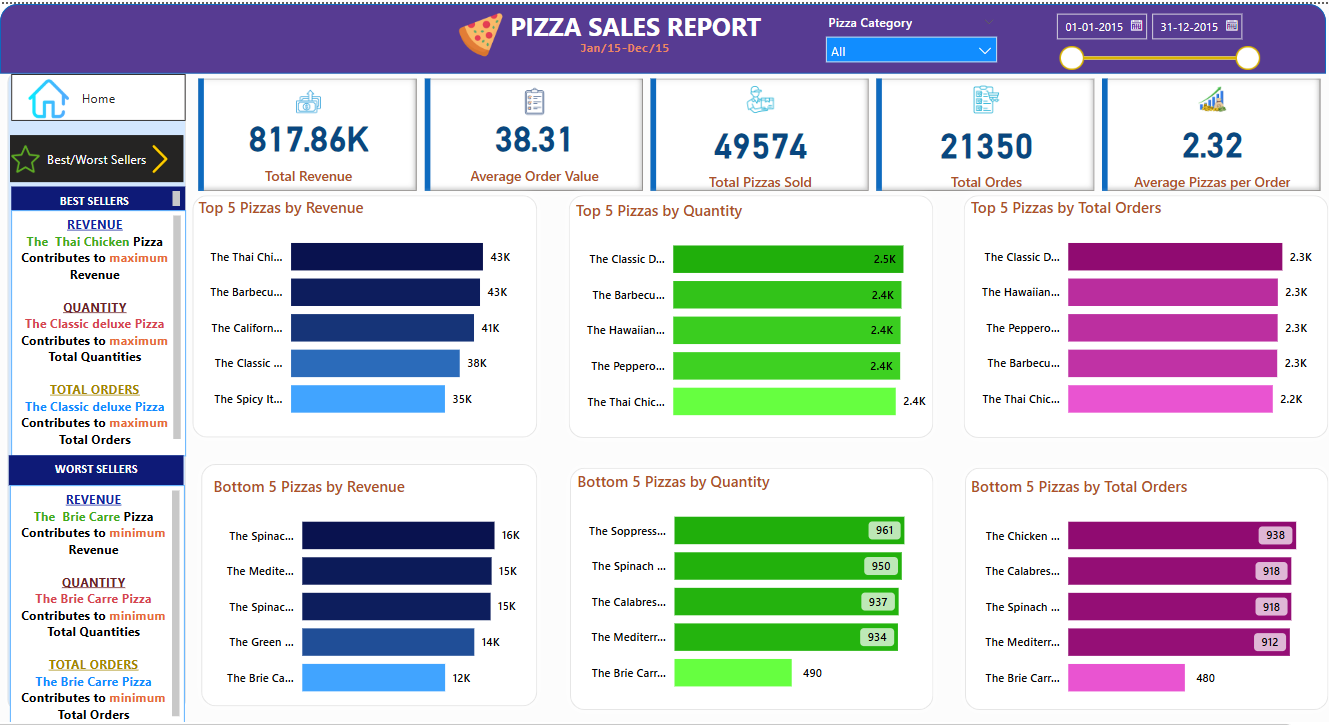

What the dashboard file says about the page in this screenshot:
{"tool":"powerbi","page":{"name":"Best/Worst Sellers","canvas":[1500,820],"ordinal":1},"visuals":[{"type":"shape","box":[0,64,206.7,697.3],"z":0},{"type":"textbox","box":[12,194.7,185.3,26.7],"z":1000},{"type":"cardVisual","fields":{"Data":["pizza_sales.Total Revenue","pizza_sales.Average Order Value","pizza_sales.Total Pizzas Sold","pizza_sales.Total Ordes","pizza_sales.Average Pizzas per Order"]},"box":[206.7,74.7,1208,130.7],"z":2000},{"type":"shape","box":[0,0,1414.7,74.7],"z":3000},{"type":"textbox","box":[528.8,0,297.5,46.2],"z":4000},{"type":"textbox","box":[613.8,32.5,122.5,32.5],"z":5000},{"type":"image","box":[483.8,0,57.5,65],"z":6000},{"type":"shape","box":[197.3,196,384,274.7],"z":7000},{"type":"textbox","box":[12,220,186.7,262.7],"z":8000},{"type":"textbox","box":[9.3,481.3,186.7,32],"z":9000},{"type":"textbox","box":[10.7,513.3,186.7,264],"z":10000},{"type":"slicer","fields":{"Values":["pizza_sales.pizza_category"]},"box":[870,5,202.5,60],"z":11000},{"type":"slicer","fields":{"Values":["pizza_sales.order_date"]},"box":[1114.7,0,237.3,74.7],"z":12000},{"type":"shape","box":[598.7,196,405,275],"z":13000},{"type":"shape","box":[1020,196,405,275],"z":14000},{"type":"shape","box":[206.7,482.7,374.7,274.7],"z":15000},{"type":"shape","box":[600,486.7,404,274.7],"z":16000},{"type":"shape","box":[1021.3,486.7,404,274.7],"z":17000},{"type":"barChart","title":"Top 5 Pizzas by Revenue","fields":{"Category":["pizza_sales.pizza_name"],"Y":["pizza_sales.Total Revenue"]},"box":[206.7,205.3,364,252],"z":18000},{"type":"barChart","title":"Bottom 5 Pizzas by Revenue","fields":{"Category":["pizza_sales.pizza_name"],"Y":["pizza_sales.Total Revenue"]},"box":[222.7,502.7,349.3,252],"z":19000},{"type":"barChart","title":"Top 5 Pizzas by Quantity","fields":{"Category":["pizza_sales.pizza_name"],"Y":["pizza_sales.Total Pizzas Sold"]},"box":[609.3,208,384,252],"z":20000},{"type":"barChart","title":"Bottom 5 Pizzas by Quantity","fields":{"Category":["pizza_sales.pizza_name"],"Y":["pizza_sales.Total Pizzas Sold"]},"box":[610.7,497.3,384,252],"z":21000},{"type":"barChart","title":"Top 5 Pizzas by Total Orders","fields":{"Category":["pizza_sales.pizza_name"],"Y":["pizza_sales.Total Ordes"]},"box":[1030.7,205.3,384,252],"z":22000},{"type":"barChart","title":"Bottom 5 Pizzas by Total Orders","fields":{"Category":["pizza_sales.pizza_name"],"Y":["pizza_sales.Total Ordes"]},"box":[1030.7,502.7,384,252],"z":23000},{"type":"pageNavigator","box":[10.7,140,185.3,50.7],"z":24000},{"type":"pageNavigator","box":[12,74.7,186.7,50.7],"z":25000},{"type":"image","box":[134.7,145.3,72,40],"z":26000},{"type":"image","box":[12,74.7,80,53.3],"z":27000},{"type":"image","box":[0,145.3,54.7,40],"z":28000}]}

Visuals, with their boxes in screenshot pixels (x1, y1, x2, y2), scaled from the page's 1500x820 canvas onto the 1329x725 screenshot:
shape: locate(0, 57, 183, 673)
textbox: locate(11, 172, 175, 196)
cardVisual - pizza_sales.Total Revenue x pizza_sales.Average Order Value: locate(183, 66, 1253, 182)
shape: locate(0, 0, 1253, 66)
textbox: locate(469, 0, 732, 41)
textbox: locate(544, 29, 652, 57)
image: locate(429, 0, 480, 57)
shape: locate(175, 173, 515, 416)
textbox: locate(11, 195, 176, 427)
textbox: locate(8, 426, 174, 454)
textbox: locate(9, 454, 175, 687)
slicer - pizza_sales.pizza_category: locate(771, 4, 950, 57)
slicer - pizza_sales.order_date: locate(988, 0, 1198, 66)
shape: locate(530, 173, 889, 416)
shape: locate(904, 173, 1263, 416)
shape: locate(183, 427, 515, 670)
shape: locate(532, 430, 890, 673)
shape: locate(905, 430, 1263, 673)
"Top 5 Pizzas by Revenue" barChart: locate(183, 182, 506, 404)
"Bottom 5 Pizzas by Revenue" barChart: locate(197, 444, 507, 667)
"Top 5 Pizzas by Quantity" barChart: locate(540, 184, 880, 407)
"Bottom 5 Pizzas by Quantity" barChart: locate(541, 440, 881, 662)
"Top 5 Pizzas by Total Orders" barChart: locate(913, 182, 1253, 404)
"Bottom 5 Pizzas by Total Orders" barChart: locate(913, 444, 1253, 667)
pageNavigator: locate(9, 124, 174, 169)
pageNavigator: locate(11, 66, 176, 111)
image: locate(119, 128, 183, 164)
image: locate(11, 66, 82, 113)
image: locate(0, 128, 48, 164)
